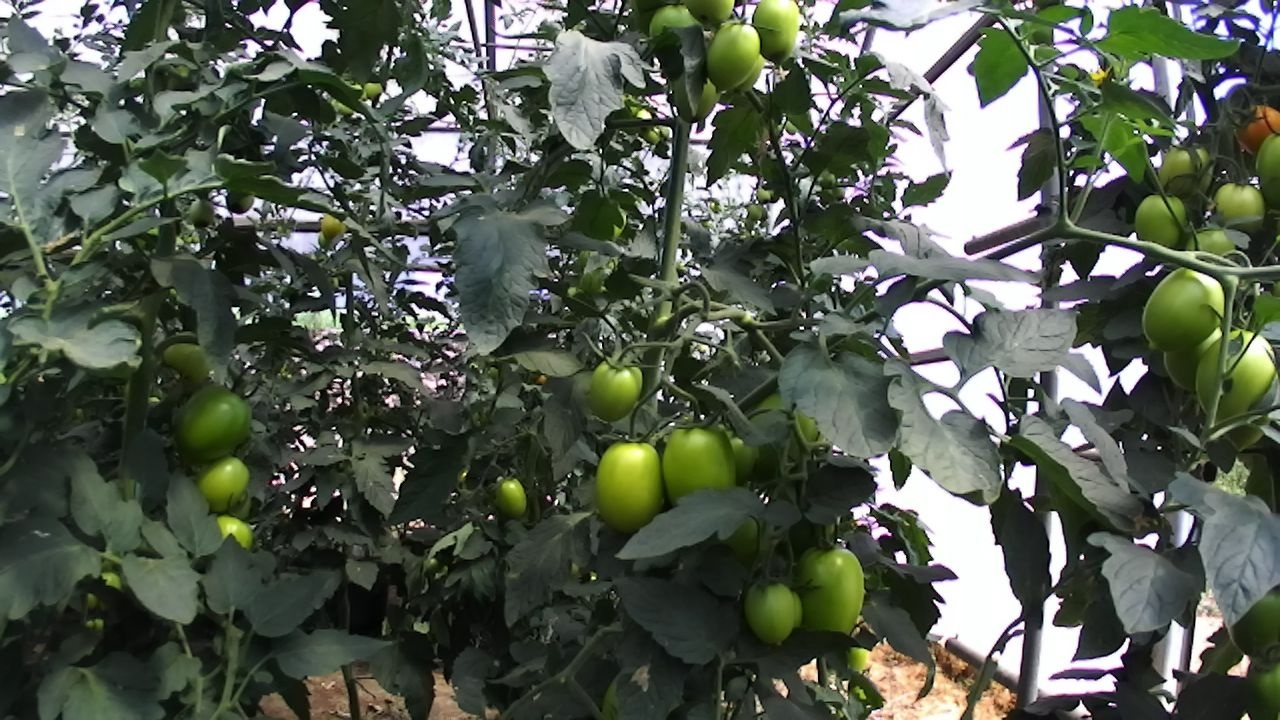tomato: (643, 410, 765, 549), (1182, 313, 1280, 471), (1124, 250, 1250, 365), (580, 430, 691, 557), (777, 529, 879, 667), (167, 371, 268, 471), (573, 343, 659, 443), (1152, 311, 1244, 401), (733, 566, 811, 663), (1142, 128, 1221, 223), (692, 12, 774, 103), (182, 446, 271, 527), (1127, 181, 1202, 267), (1202, 161, 1277, 243), (741, 0, 812, 79), (638, 0, 716, 56), (666, 63, 723, 128), (486, 468, 544, 531), (306, 201, 353, 253), (179, 187, 225, 237), (217, 183, 262, 222), (356, 72, 390, 107)
